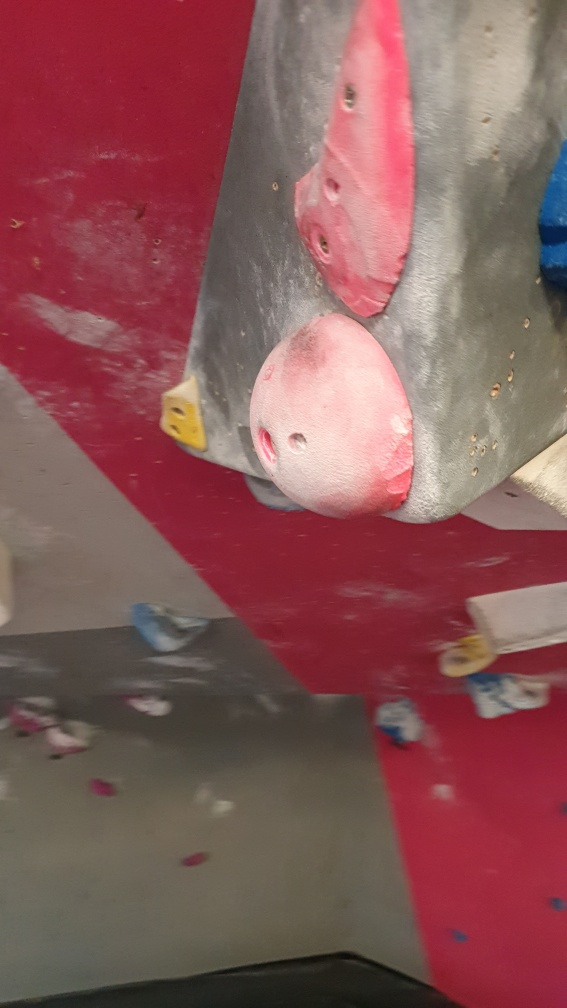Crimp: (154, 370, 210, 451)
Jug: (131, 598, 219, 656)
Sloper: (247, 311, 414, 521)
